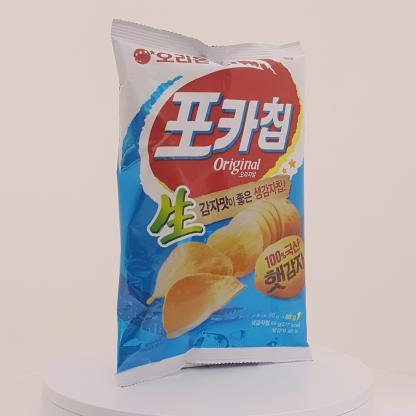Plastic Packaging: (75, 11, 331, 385)
